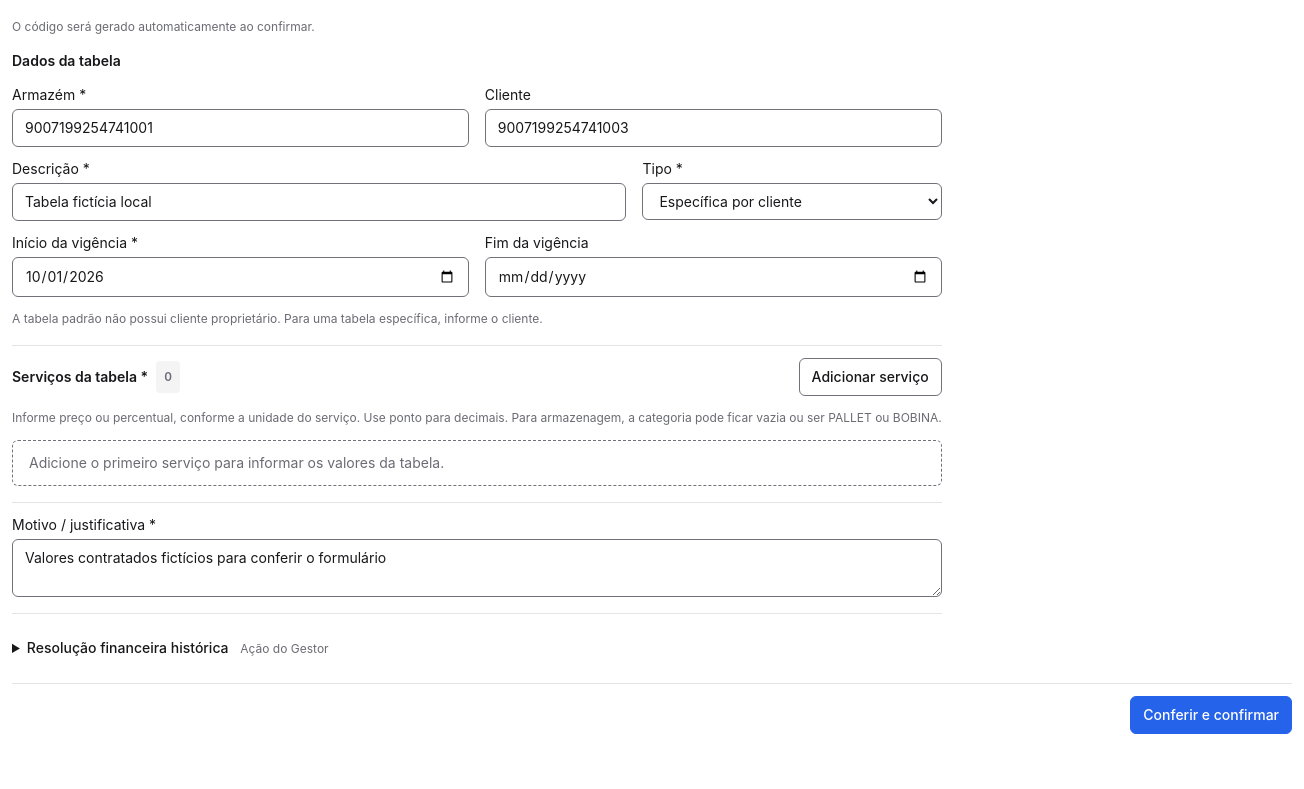
Test: exige ao menos um serviço e não envia o cadastro vazio
Click the button "Conferir e confirmar": (1211, 715) [1130,696,1292,734]
(page scrolled)
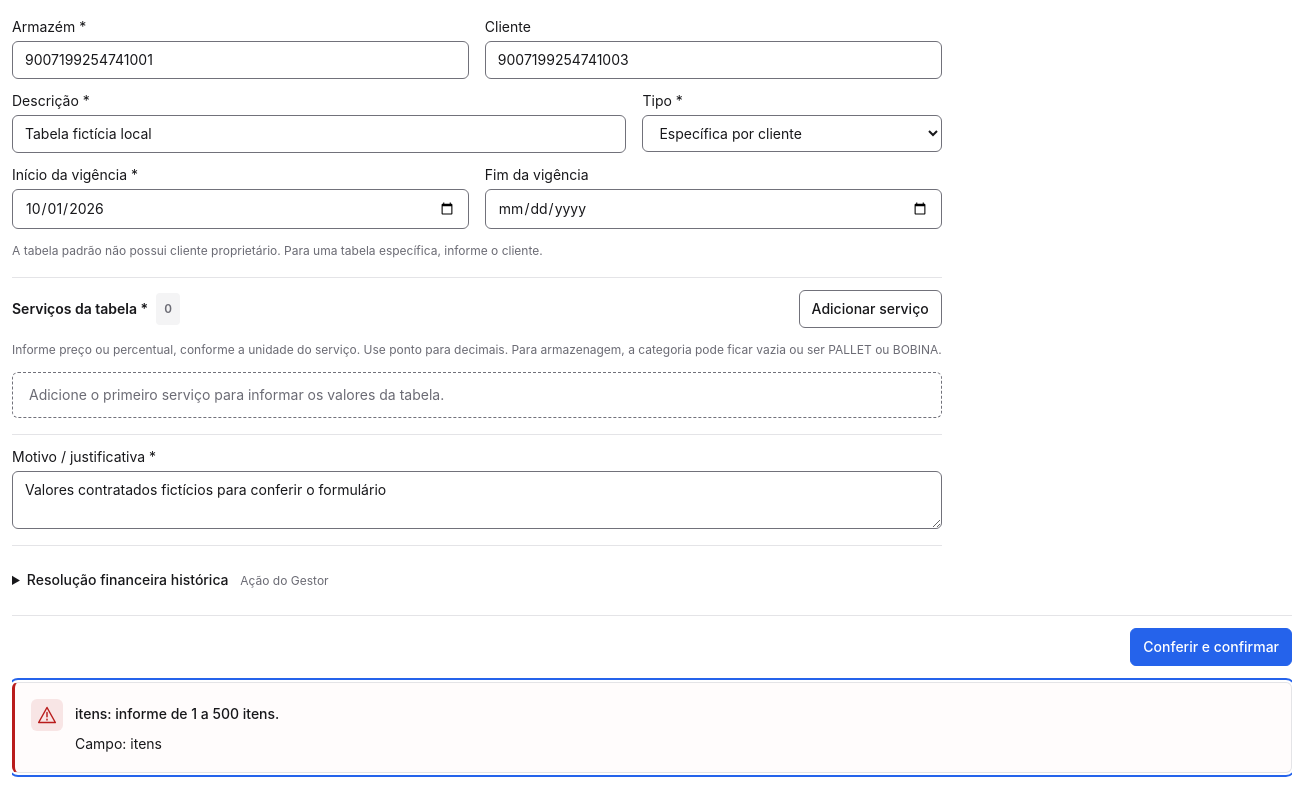
Result: the message reads "itens: informe de 1 a 500 itens. Campo: itens" at [75,705,279,722]
